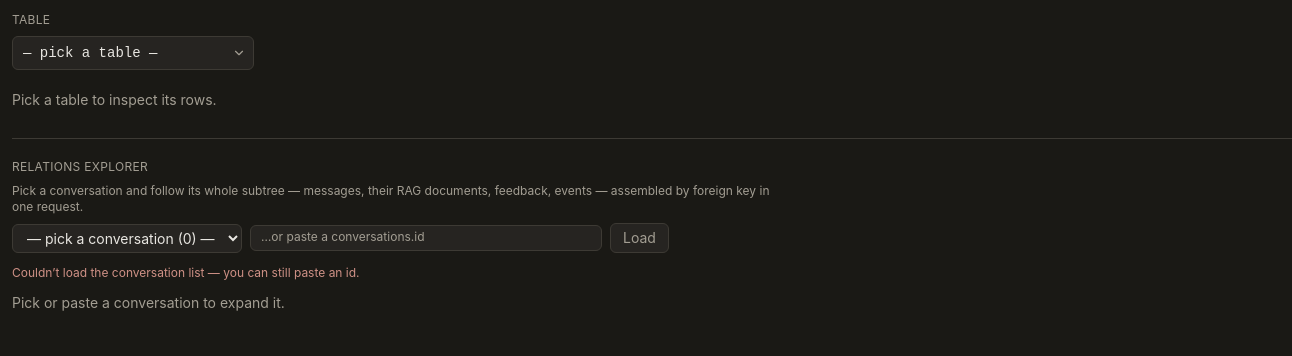
Test: DbViz › says which table failed rather than showing an empty grid
The image size is (1292, 356).
Select "conversations — 12 rows" in the 1st dropdown at [133, 53], box [12, 36, 254, 70]
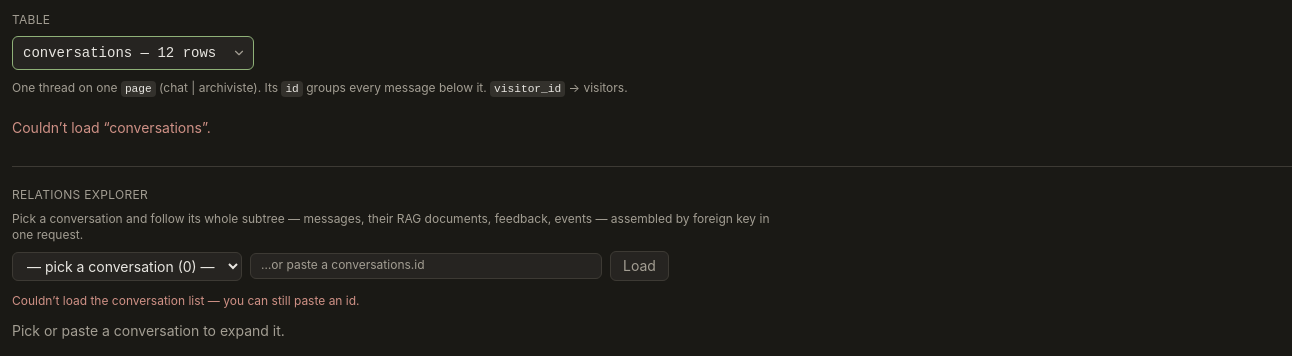
Result: the text "Couldn’t load “conversations”." is shown at [12, 119, 211, 136]
